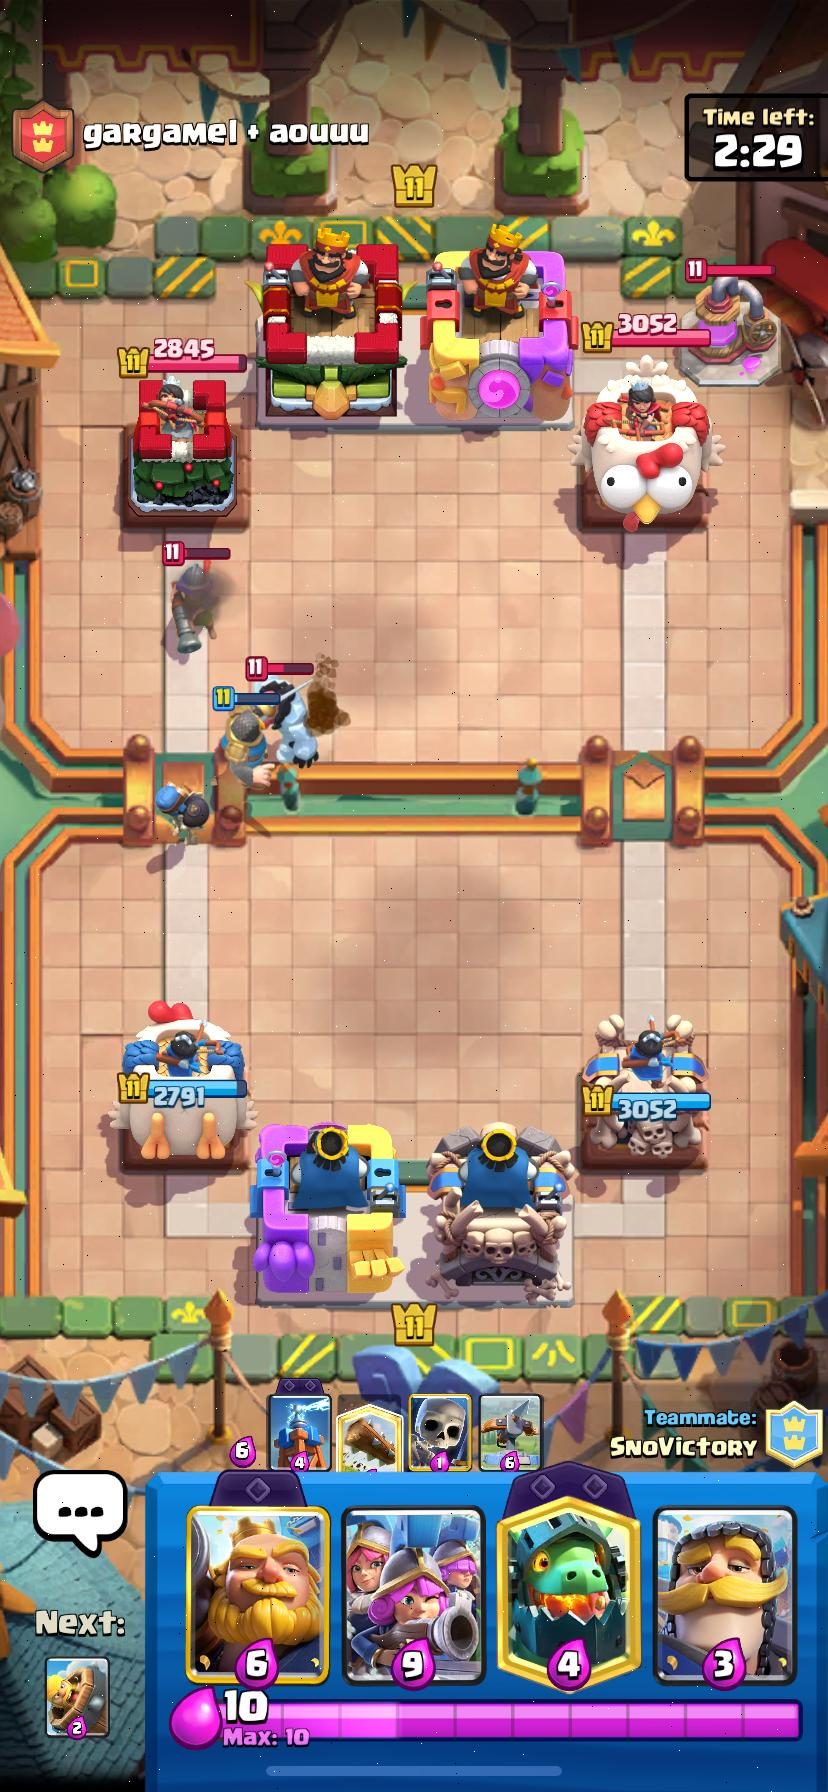EIceGolem: (258, 677, 317, 767)
EKingTower: (421, 226, 578, 421), (257, 226, 401, 418)
EMusk: (172, 561, 218, 661)
EPump: (678, 277, 780, 386)
EnemyPrincessTower: (575, 365, 711, 529), (124, 373, 246, 525)
OBomber: (154, 779, 212, 843)
OKnight: (215, 693, 277, 790)
OwnKingTower: (252, 1123, 405, 1303), (428, 1122, 574, 1305)
OwnPrincessTower: (109, 1003, 256, 1163), (580, 1014, 710, 1166)
